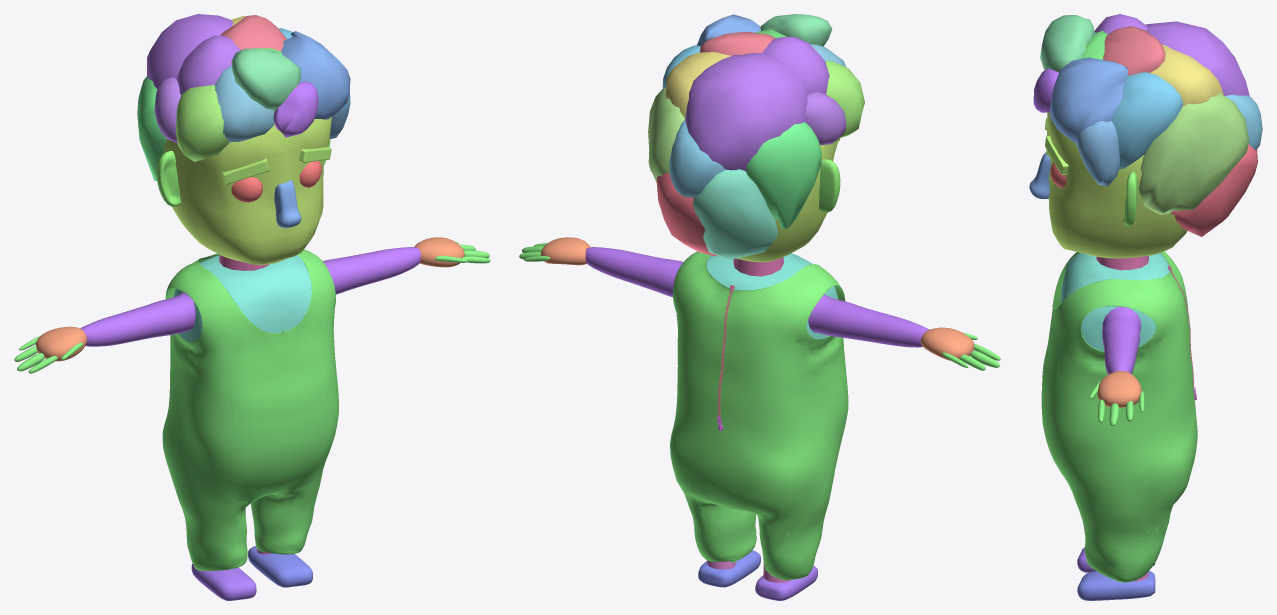
Rendered from Niño LowPoly.fbx.
The picture shows the model from 3 angles, left to right: view 1: azimuth 30°, elevation 25°; view 2: azimuth 150°, elevation 25°; view 3: azimuth 270°, elevation 25°; orthographic projection.
Visible parts, largest first — view 1: PIJAMA, PELOS, CUERPO, CABEZA, OJOS, CEJAS; view 2: PIJAMA, PELOS, CUERPO, CABEZA; view 3: PELOS, PIJAMA, CABEZA, CUERPO, CEJAS.
Part boxes in pixels (x1,y1,x2,y2): PIJAMA: (162, 249, 338, 570); PELOS: (137, 14, 350, 181); CUERPO: (14, 237, 490, 600); CABEZA: (157, 117, 331, 264); OJOS: (231, 161, 321, 202); CEJAS: (222, 146, 331, 184); PIJAMA: (670, 251, 848, 580); PELOS: (648, 14, 864, 259); CUERPO: (519, 237, 1000, 600); CABEZA: (736, 138, 840, 262); PELOS: (1033, 14, 1262, 236); PIJAMA: (1041, 251, 1197, 582); CABEZA: (1029, 112, 1187, 258); CUERPO: (1060, 252, 1169, 600); CEJAS: (1045, 118, 1068, 174).
Bounding box in the file's own units: 3.27 × 3.65 × 1.4.
